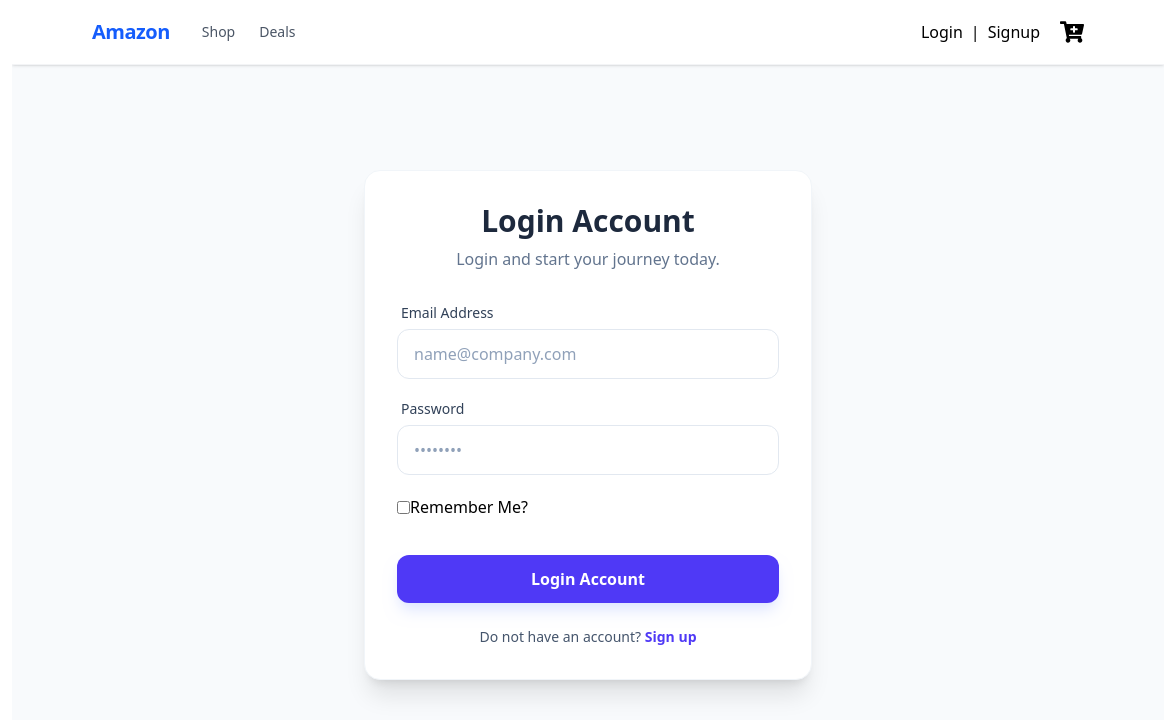
it: Login Integration Test › Login Success › When Login successfully,should be able to navigate to Protected Page like Cart
Type "email@email.com" into the field with placeholder "name@company.com". click: (588, 354)
box: x1=397 y1=329 x2=779 y2=379
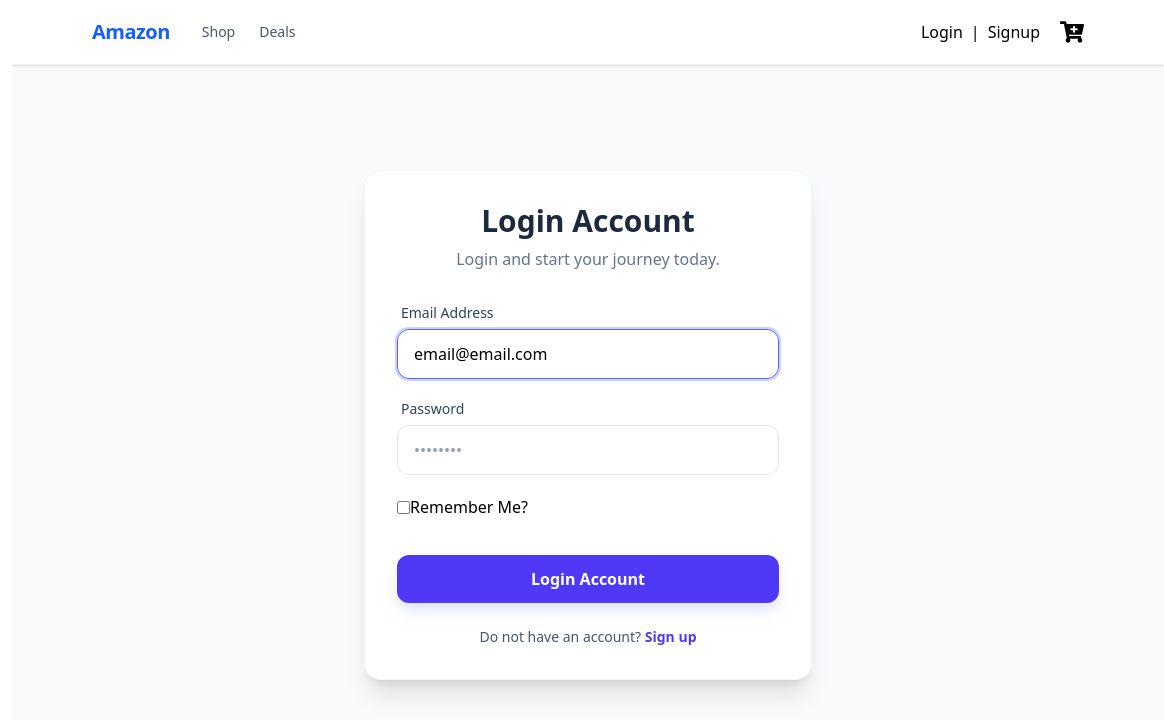
Type "Awyd899?" into the password field with placeholder "••••••••". click: (588, 450)
box: x1=397 y1=425 x2=779 y2=475
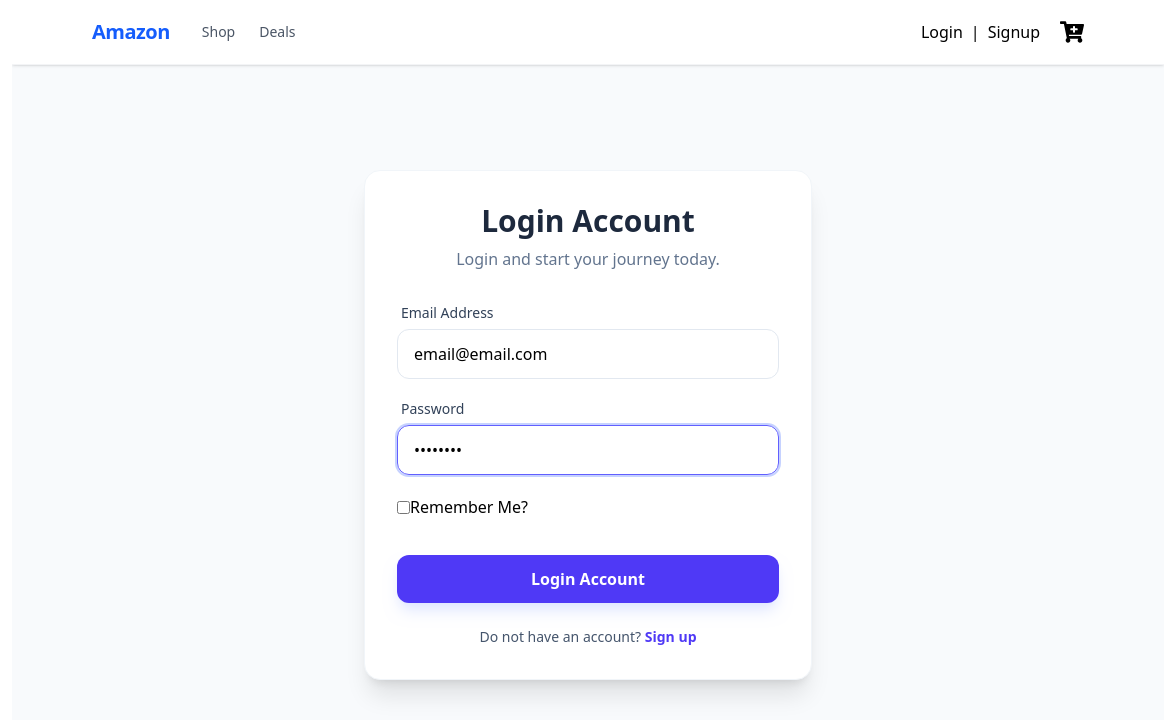
Click the button "Login Account". click: (588, 579)
box: x1=397 y1=555 x2=779 y2=603
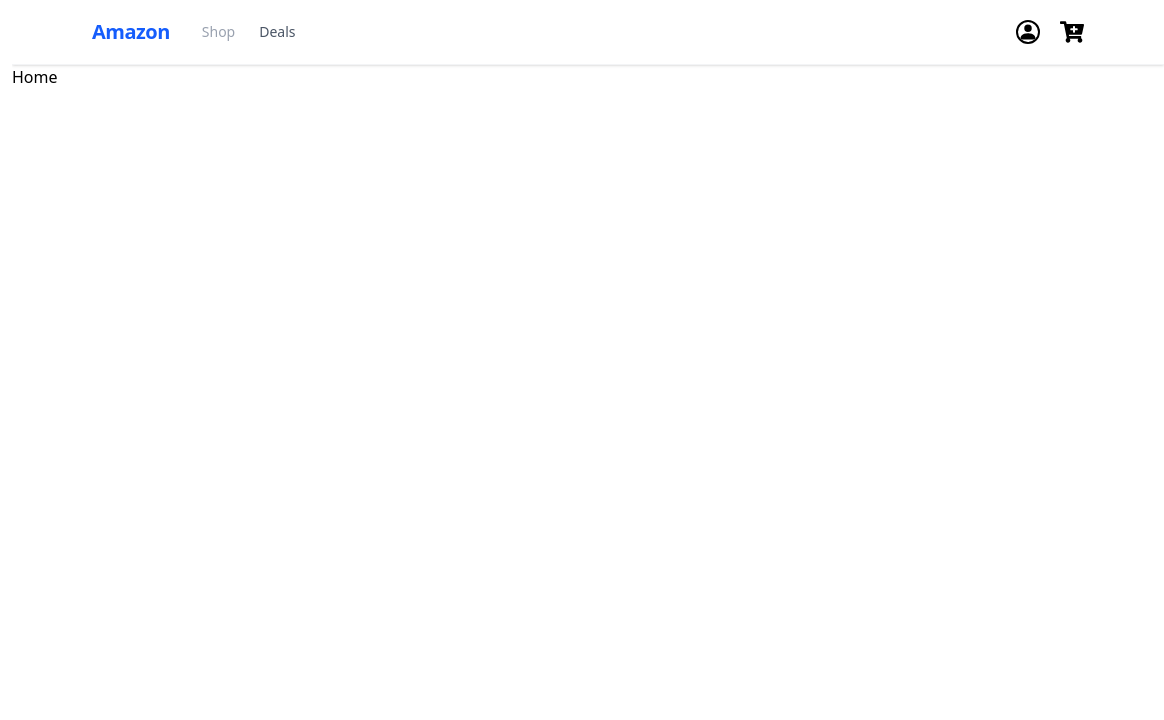
Now the text "Home" is shown, box x1=12 y1=66 x2=58 y2=88
Click the link with test id "cart_link". click: (1072, 32)
box: x1=1060 y1=20 x2=1084 y2=44
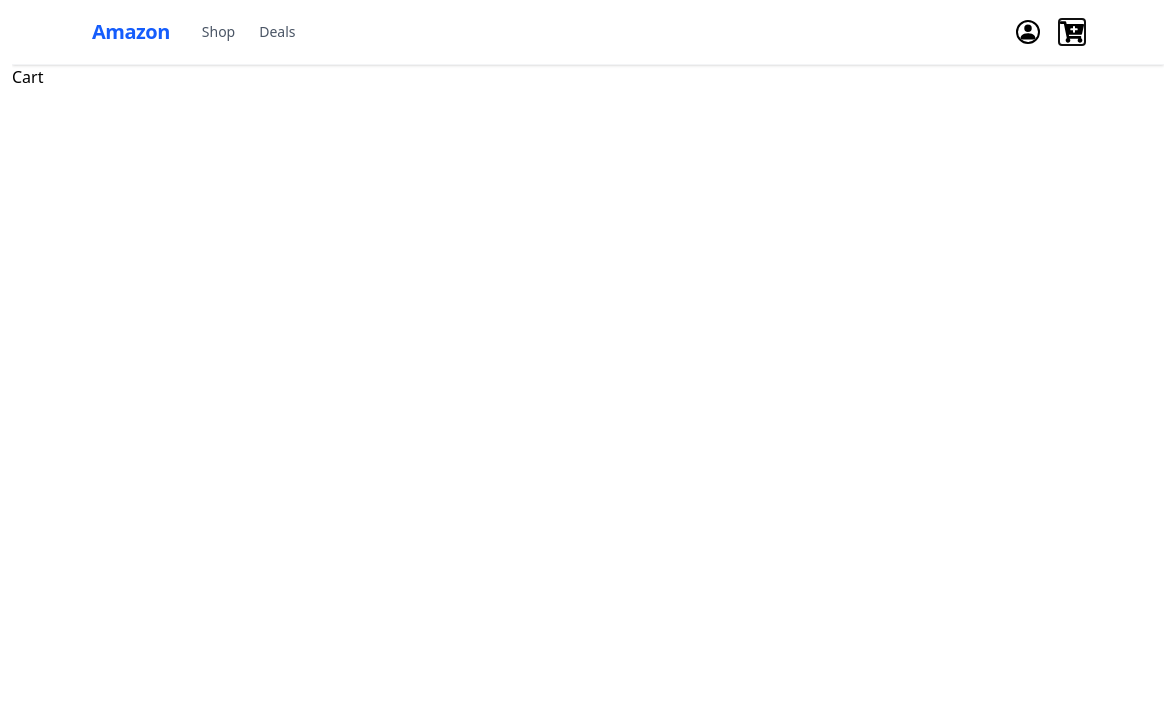
Now the text "Cart" is shown, box x1=12 y1=66 x2=44 y2=88
